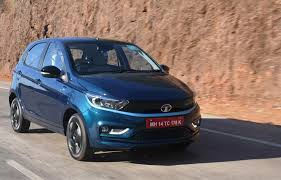Tiago: (7, 33, 204, 163)
